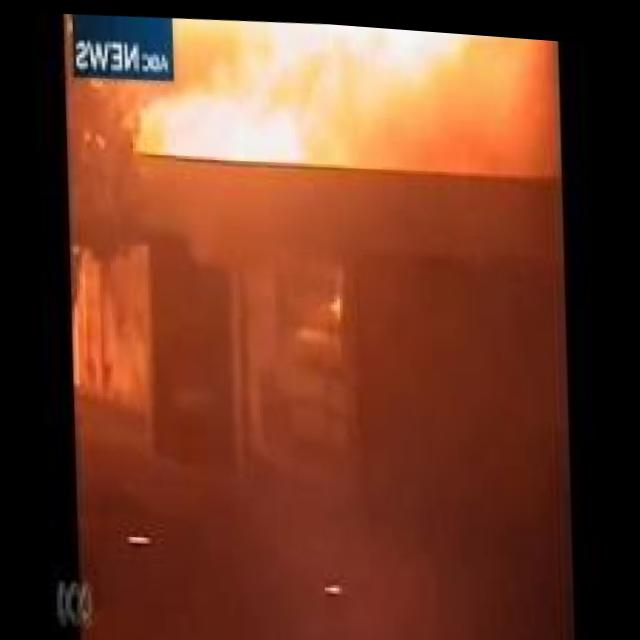fire: (128, 8, 514, 188)
